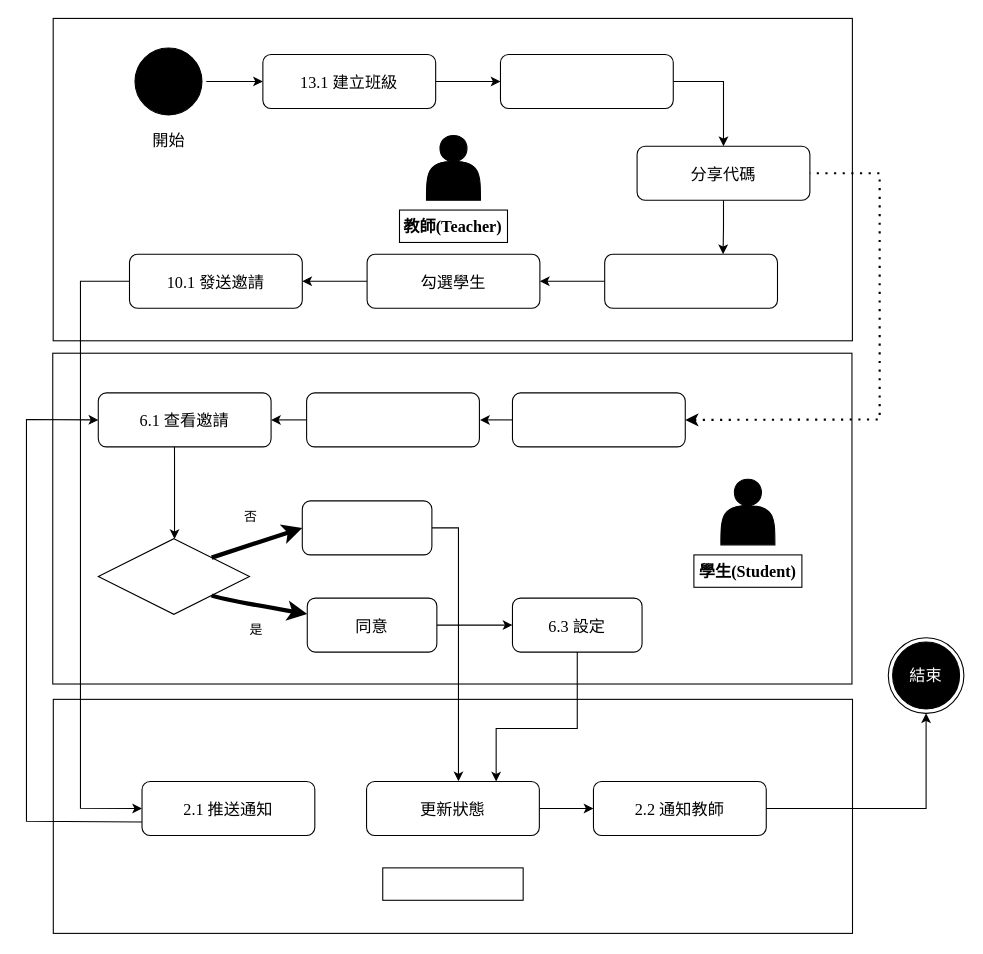
The diagram is 983 pixels wide and 954 high, and some of its shapes have lost their labels. Here are the shapes that lost their labels. From the top down, the centre of each, then its label:
[586,80]: 產生邀請碼
[690,280]: 查看名單
[392,419]: 等待通知
[598,419]: 9.1 輸入代碼
[366,527]: 拒絕
[173,576]: 6.2 同意？
[452,883]: 系統(System)
